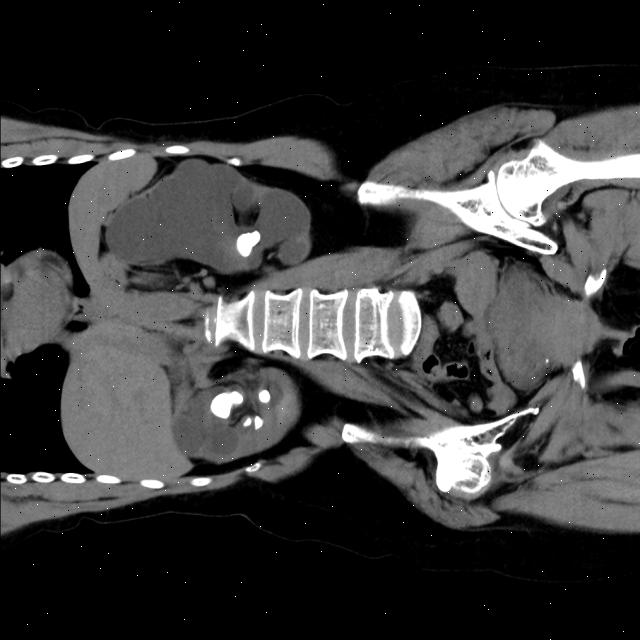kidneystone: (210, 391, 243, 419), (236, 229, 261, 256), (259, 389, 270, 403), (254, 415, 262, 429), (244, 419, 248, 425)
